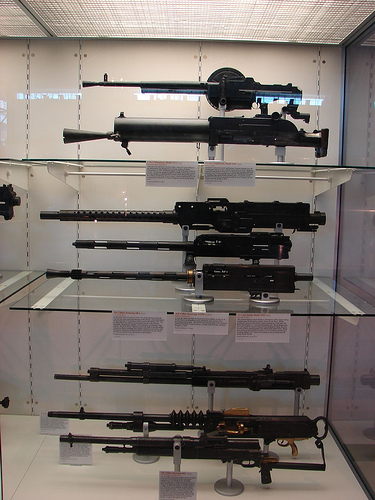rifle: (54, 70, 330, 106), (48, 434, 329, 469), (52, 360, 331, 389), (52, 401, 331, 430), (39, 265, 318, 294), (36, 233, 315, 262), (45, 199, 324, 228), (50, 119, 329, 148)
